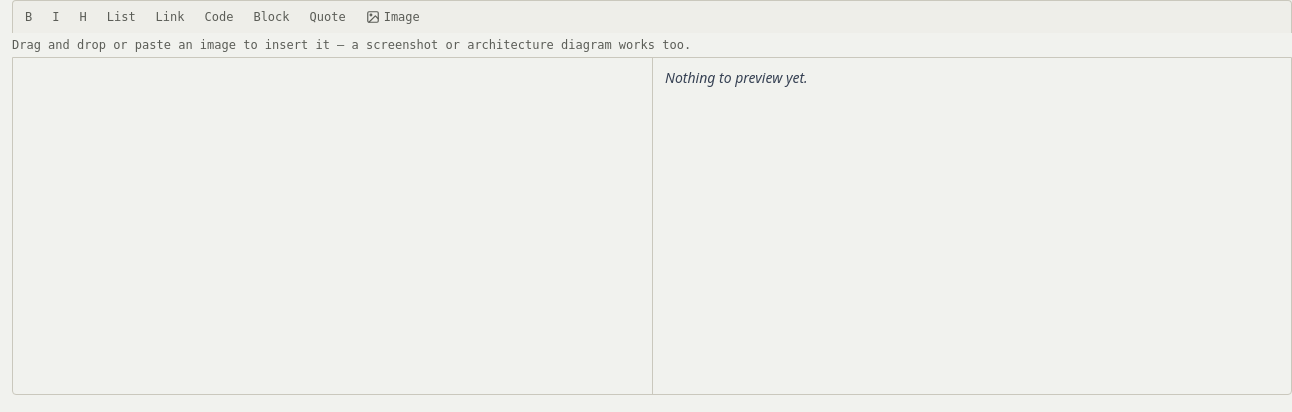
Test case: MarkdownEditor › prefixes the current line with ## when Heading is clicked
Step 1. Type "Section title" into the text box → (332, 226), box x1=13 y1=58 x2=652 y2=394
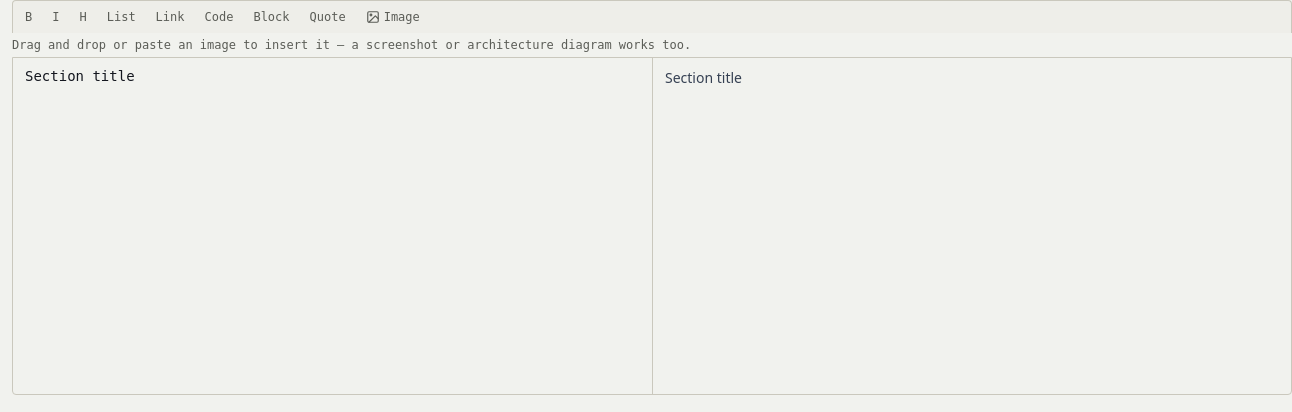
Step 2. Click the button named "Heading" → (83, 17), box x1=72 y1=5 x2=95 y2=29
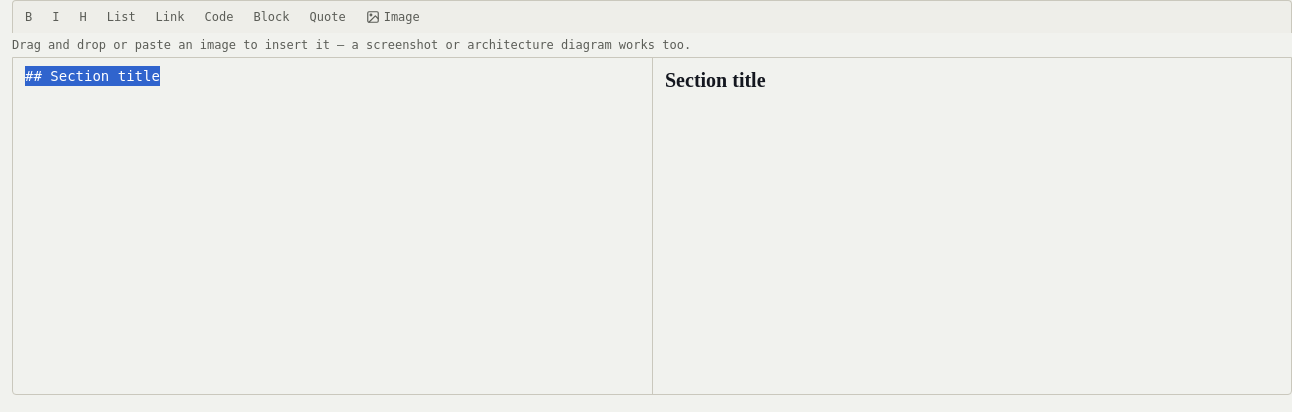
Check: the text box holds "## Section title", box x1=13 y1=58 x2=652 y2=394
